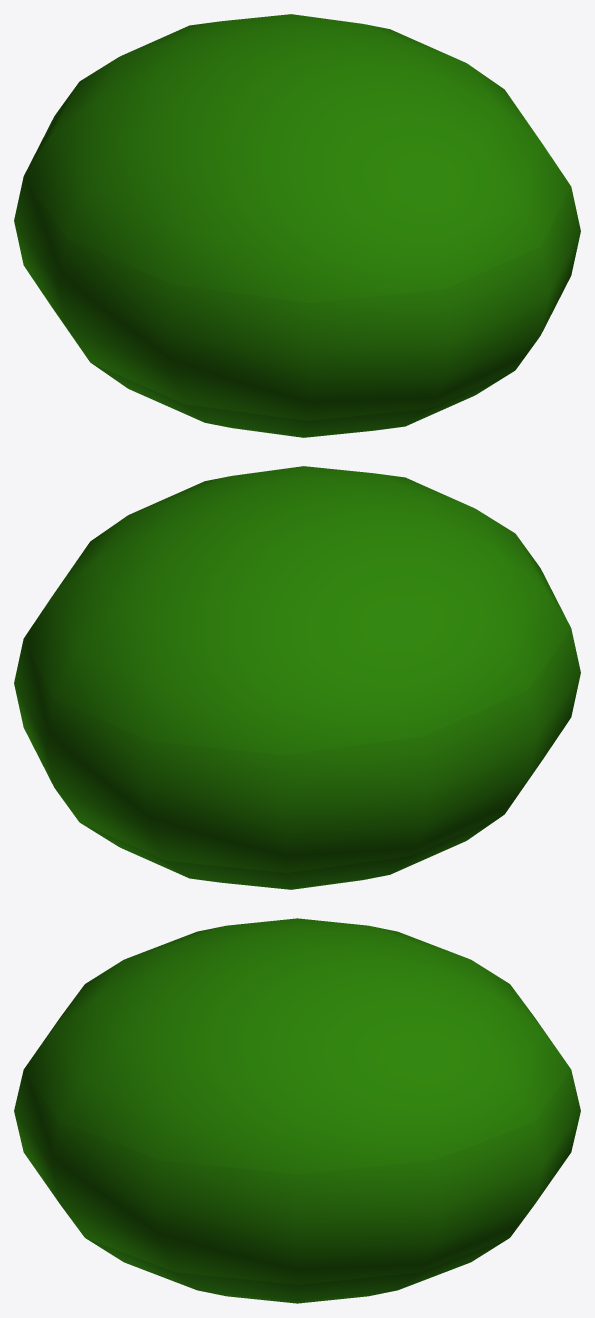
Rendered from bush-08_col.fbx.
3 renders of one model, top to bottom at view 1: azimuth 30°, elevation 25°; view 2: azimuth 150°, elevation 25°; view 3: azimuth 270°, elevation 25°, orthographic. The views are drawn at different scales.
Visible parts, largest first — view 1: bush-08.col; view 2: bush-08.col; view 3: bush-08.col.
Part boxes in pixels (bbox=[...]): bush-08.col: bbox=[14, 14, 580, 437]; bush-08.col: bbox=[14, 466, 580, 889]; bush-08.col: bbox=[14, 918, 580, 1303].
Size of the model in its own units: 0.1635 by 0.1123 by 0.1805.
1 material, 1 textured.
